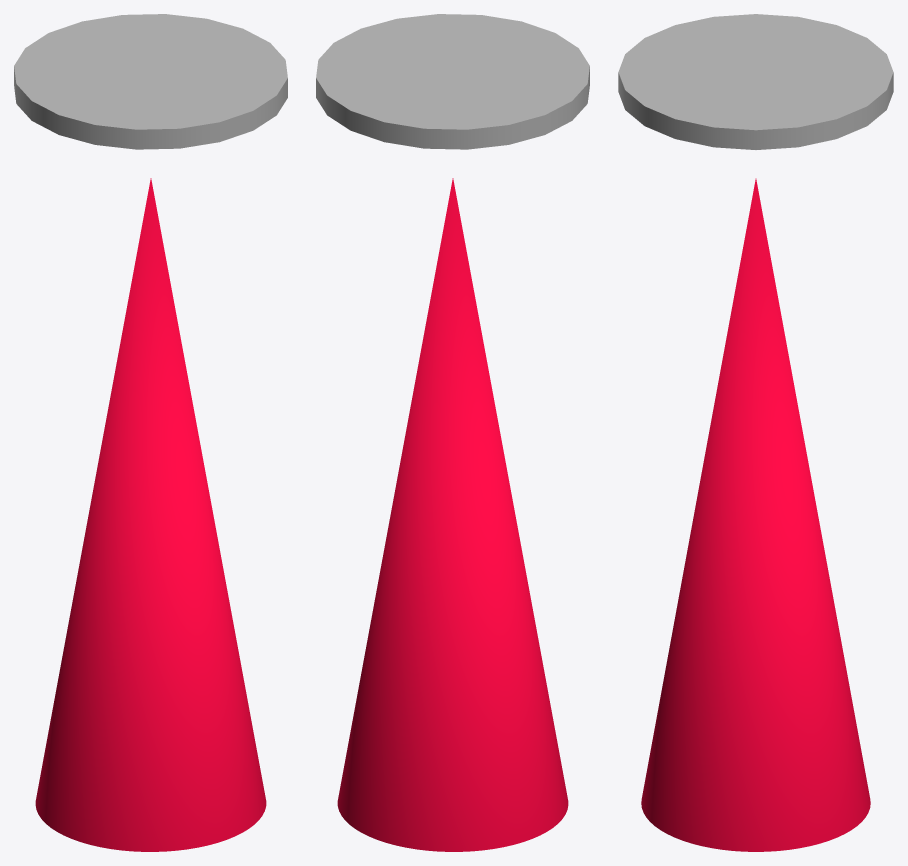
The model's file is Spike_Animated.fbx.
The picture shows the model from 3 angles, left to right: view 1: azimuth 30°, elevation 25°; view 2: azimuth 150°, elevation 25°; view 3: azimuth 270°, elevation 25°; orthographic projection.
Visible parts, largest first — view 1: Cone, Cylinder; view 2: Cone, Cylinder; view 3: Cone, Cylinder.
Part boxes in pixels (<box>): Cone: <box>35,178,266,851</box>; Cylinder: <box>14,14,287,149</box>; Cone: <box>337,178,568,851</box>; Cylinder: <box>316,14,589,149</box>; Cone: <box>641,178,870,851</box>; Cylinder: <box>618,14,893,149</box>.
Size of the model in its own units: 68.76 by 202 by 68.76.
